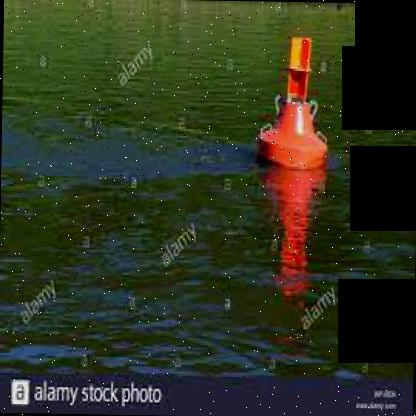Buoy: (254, 34, 334, 174)
